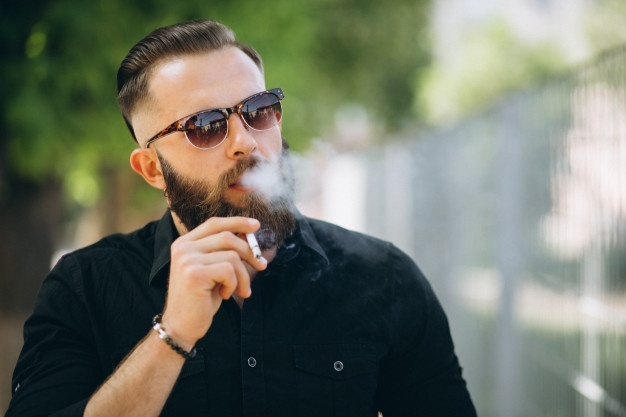sigaretta: (243, 217, 267, 268)
